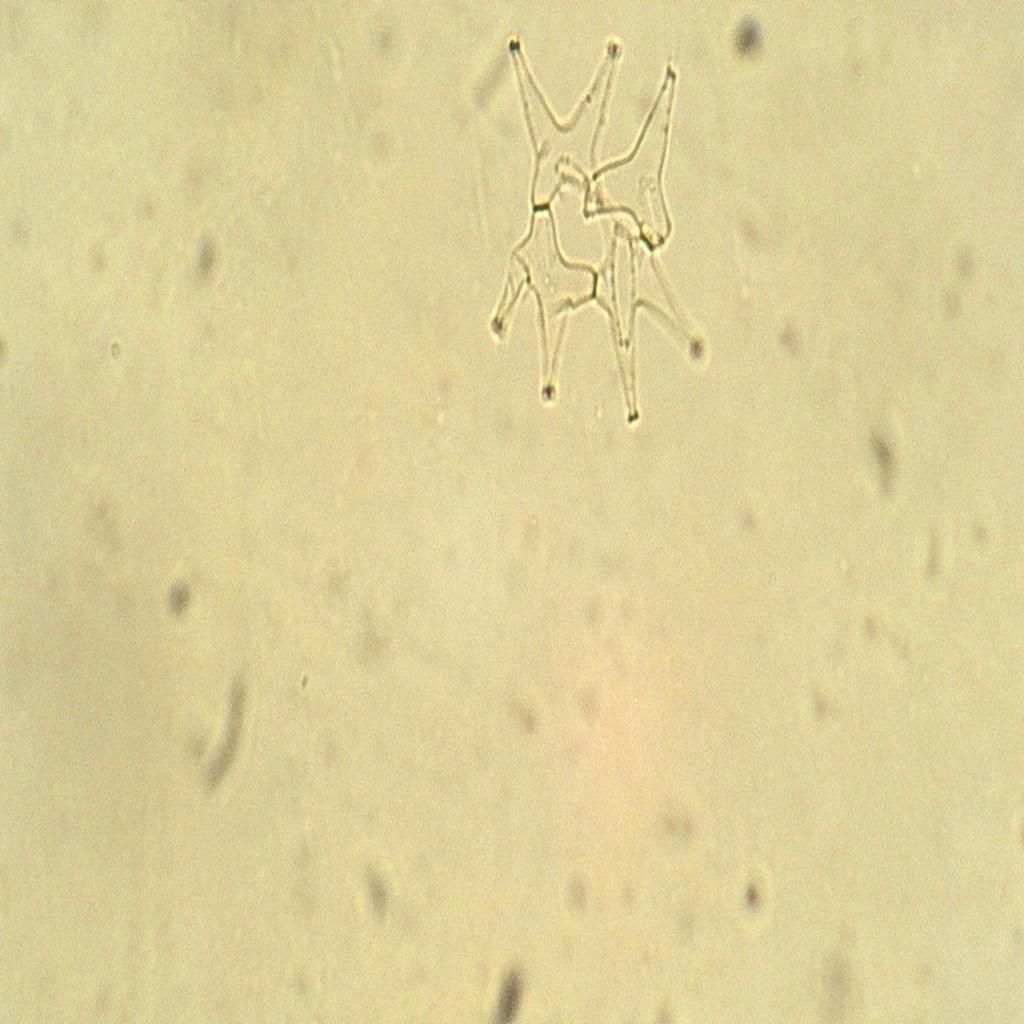Pediastrum_1F0: (473, 20, 715, 440)
